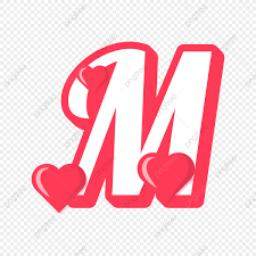m: (25, 28, 251, 234)
